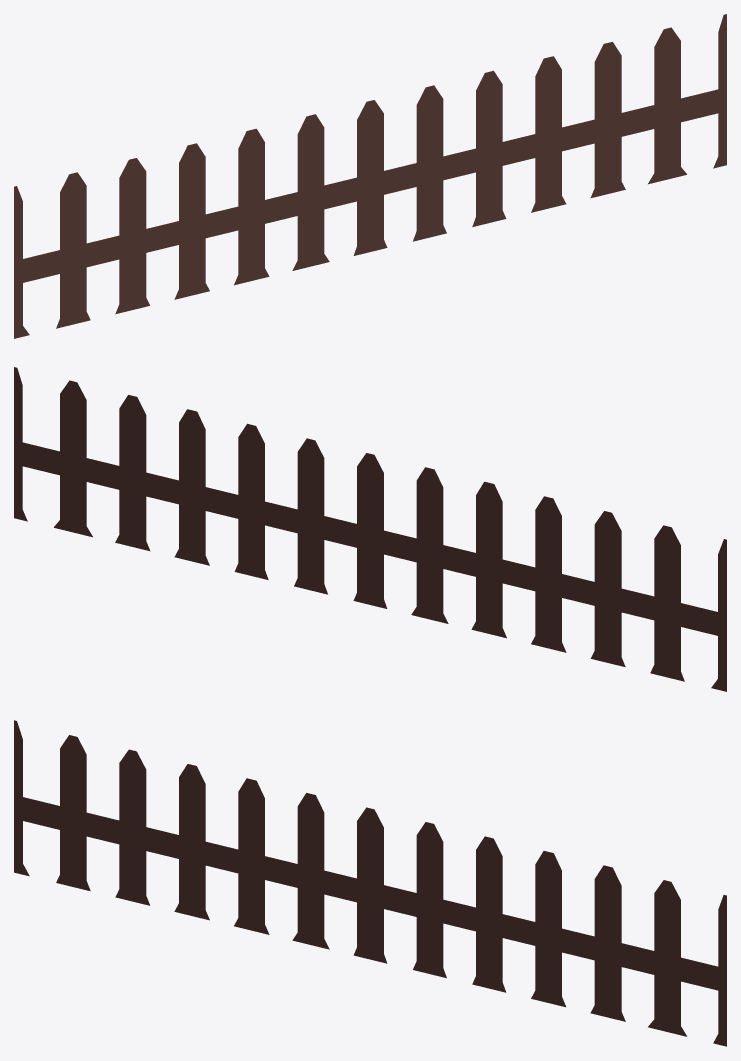
File: CERCO .fbx
The picture shows the model from 3 angles, top to bottom: view 1: azimuth 30°, elevation 25°; view 2: azimuth 150°, elevation 25°; view 3: azimuth 330°, elevation 25°; orthographic projection.
Visible parts, largest first — view 1: Plane.013; view 2: Plane.013; view 3: Plane.013.
Part boxes in pixels (left/top/right/bottom): Plane.013: left=14, top=14, right=726, bottom=338; Plane.013: left=14, top=367, right=726, bottom=691; Plane.013: left=14, top=720, right=726, bottom=1046.
Bounding box in the file's own units: 2228 × 456 × 0.000837.
